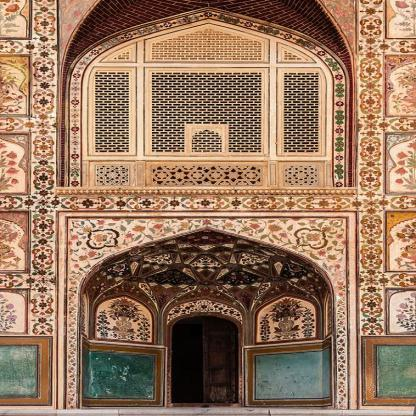Building Outline: (0, 1, 416, 412)
Door: (171, 317, 239, 404)
Door Hole: (81, 229, 334, 410)
Facade: (1, 1, 415, 412)
Floor: (0, 1, 416, 187)
Floor Slab: (0, 187, 416, 195)
Ground Floor: (0, 195, 416, 412)
Window: (152, 71, 263, 152), (284, 71, 319, 152), (95, 71, 130, 152)
Window Hole: (59, 0, 353, 187)
